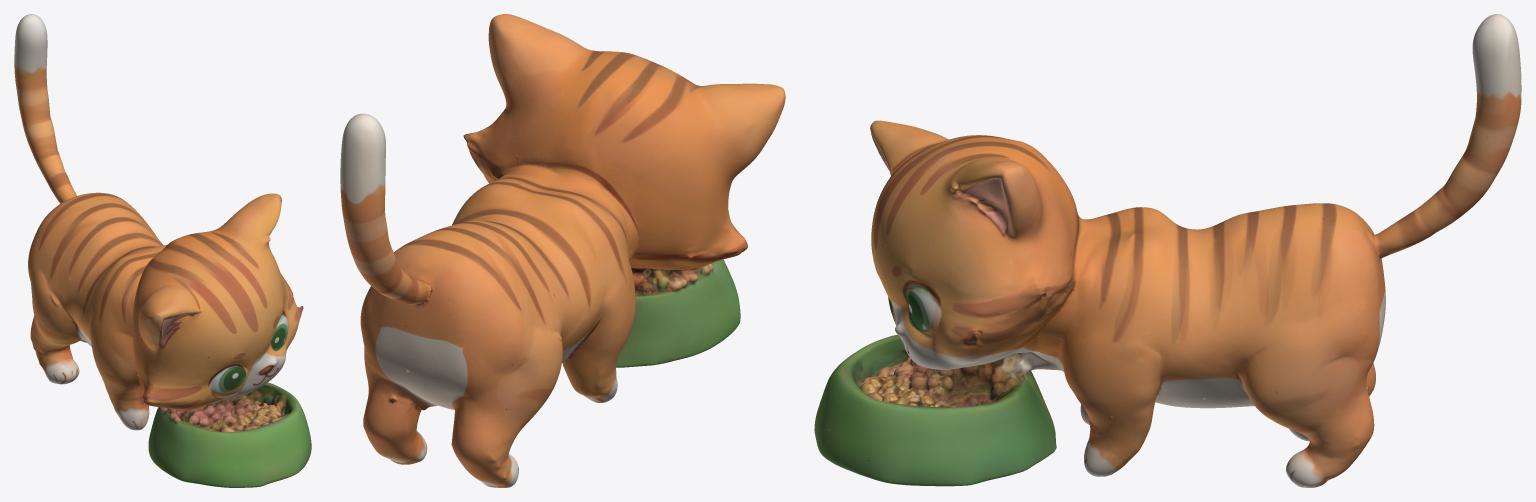
File: pet_cat_eat.glb
3 views of the same model, side by side, from view 1: azimuth 30°, elevation 25°; view 2: azimuth 150°, elevation 25°; view 3: azimuth 270°, elevation 25° (orthographic). The views are drawn at different scales.
Visible parts, largest first — view 1: Mesh_0.021; view 2: Mesh_0.021; view 3: Mesh_0.021.
Boxes of the visible parts, x1=… form: Mesh_0.021: x1=14, y1=14, x2=311, y2=487; Mesh_0.021: x1=340, y1=14, x2=785, y2=487; Mesh_0.021: x1=814, y1=14, x2=1521, y2=487.
Bounding box in the file's own units: 0.7082 × 1.14 × 1.64.
Materials: 1 (1 with a texture image).
